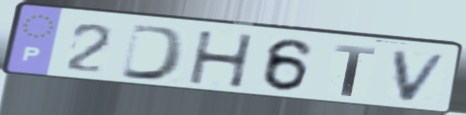2: (63, 22, 116, 75)
6: (259, 37, 316, 94)
D: (117, 22, 190, 83)
H: (186, 29, 257, 90)
T: (332, 42, 379, 99)
V: (390, 49, 453, 105)
